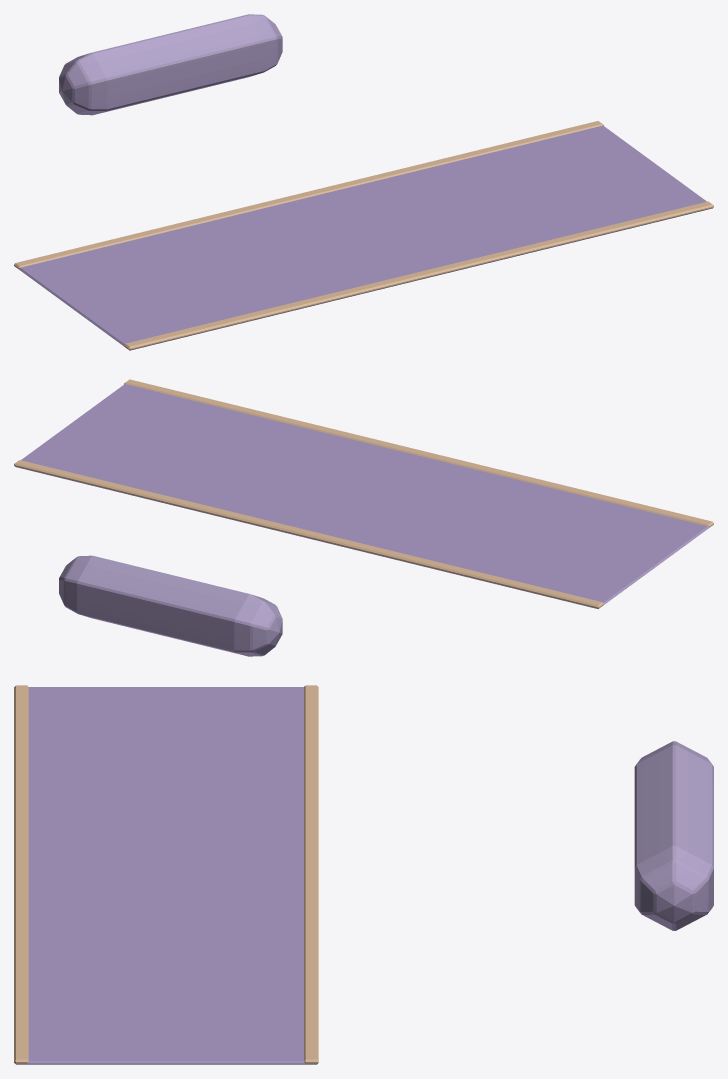
Rendered from gym-mats.glb.
3 renders of one model, top to bottom at view 1: azimuth 30°, elevation 25°; view 2: azimuth 150°, elevation 25°; view 3: azimuth 270°, elevation 25°, orthographic. The views are drawn at different scales.
Visible parts, largest first — view 1: yoga_mats; view 2: yoga_mats; view 3: yoga_mats.
Boxes of the visible parts, x1=… form: yoga_mats: x1=14, y1=14, x2=713, y2=350; yoga_mats: x1=14, y1=379, x2=713, y2=656; yoga_mats: x1=14, y1=685, x2=713, y2=1064.
Bounding box in the file's own units: 1.75 × 0.178 × 1.38.
1 material, 1 textured.
